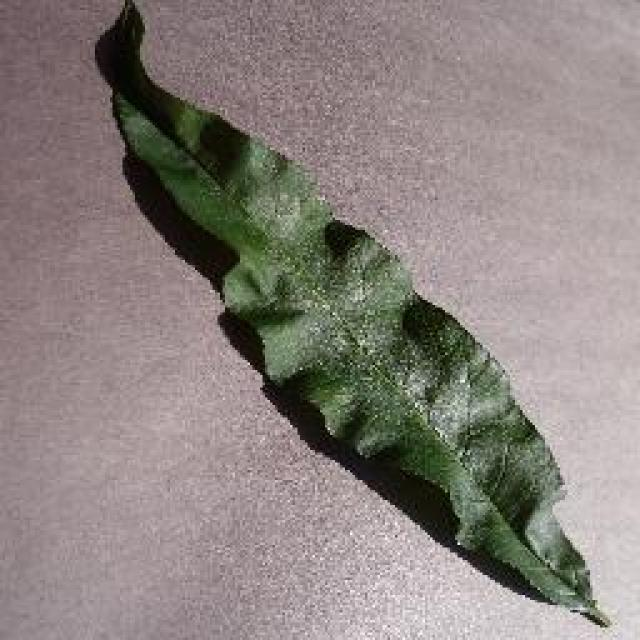Pea_healthy: (135, 78, 573, 540)
